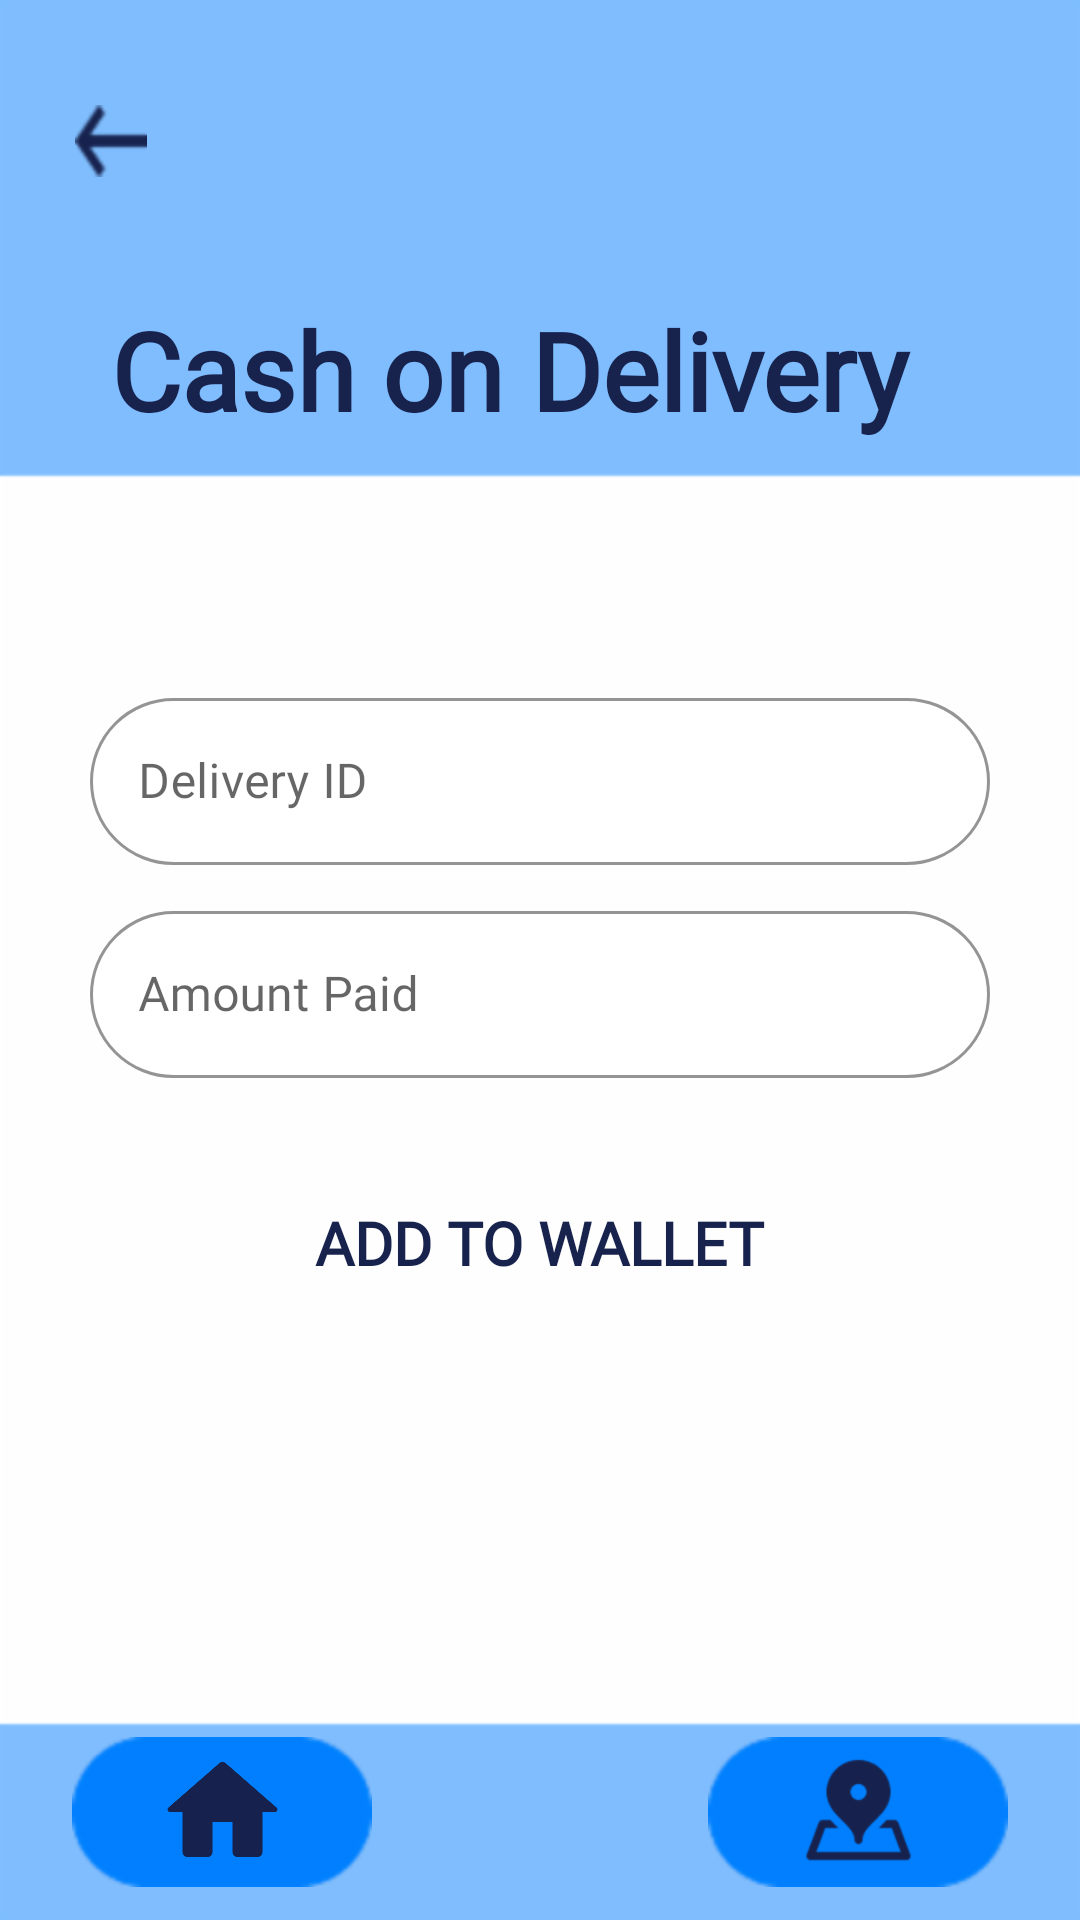

Screen size 1080px x 1920px. Icon name, then its center in pixels as (x,y):
back arrow: (111,141)
